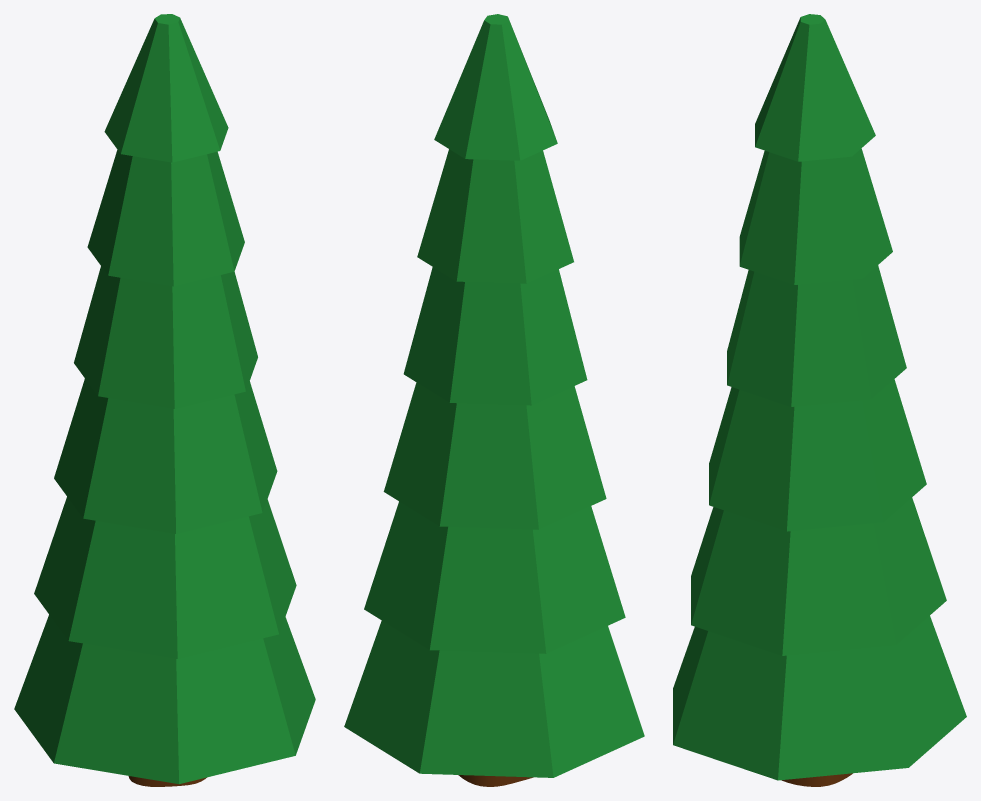
File: Spruce.fbx
The picture shows the model from 3 angles, left to right: view 1: azimuth 30°, elevation 25°; view 2: azimuth 150°, elevation 25°; view 3: azimuth 270°, elevation 25°; orthographic projection.
Parts seen in each view (by area): view 1: Cylinder.001; view 2: Cylinder.001, Cylinder; view 3: Cylinder.001, Cylinder.
Part boxes in pixels (x1=…): Cylinder.001: x1=14, y1=14, x2=315, y2=784; Cylinder.001: x1=344, y1=14, x2=644, y2=777; Cylinder: x1=458, y1=775, x2=533, y2=786; Cylinder.001: x1=673, y1=14, x2=966, y2=780; Cylinder: x1=782, y1=773, x2=852, y2=786.
Size of the model in its own units: 236 by 647 by 230.
